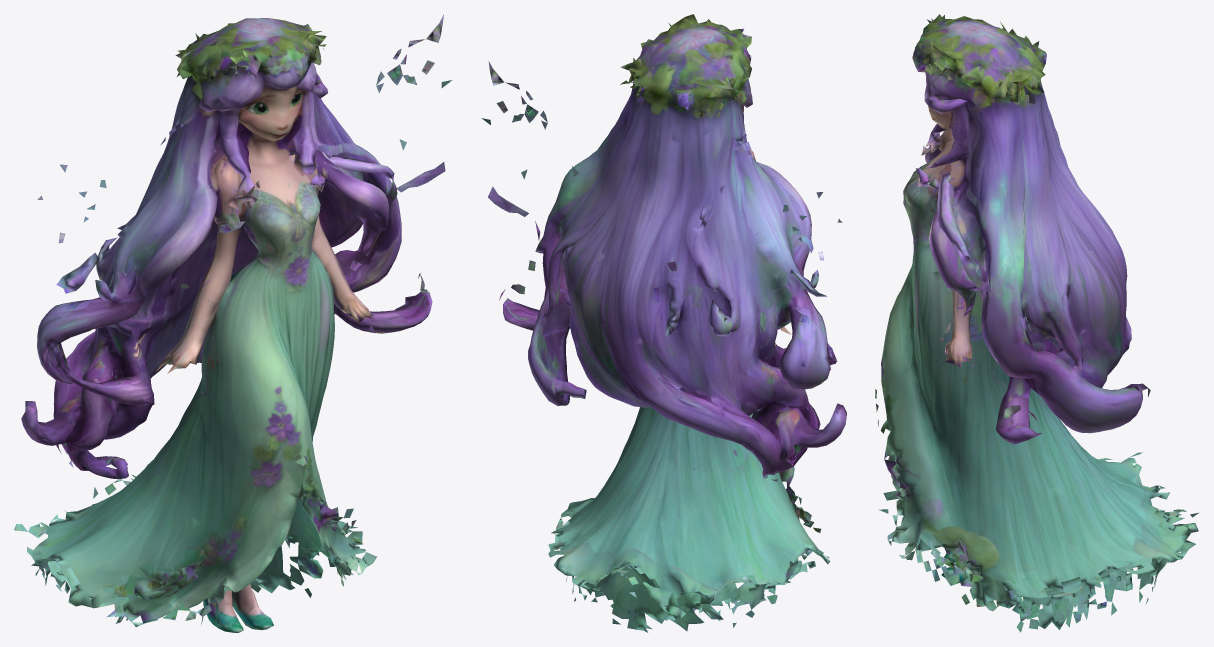
Rendered from forest-fairy.glb.
3 renders of one model, left to right at view 1: azimuth 30°, elevation 25°; view 2: azimuth 150°, elevation 25°; view 3: azimuth 270°, elevation 25°, orthographic. The views are drawn at different scales.
Bounding box in the file's own units: 1.39 × 1.96 × 0.9956.
1 material, 1 textured.
